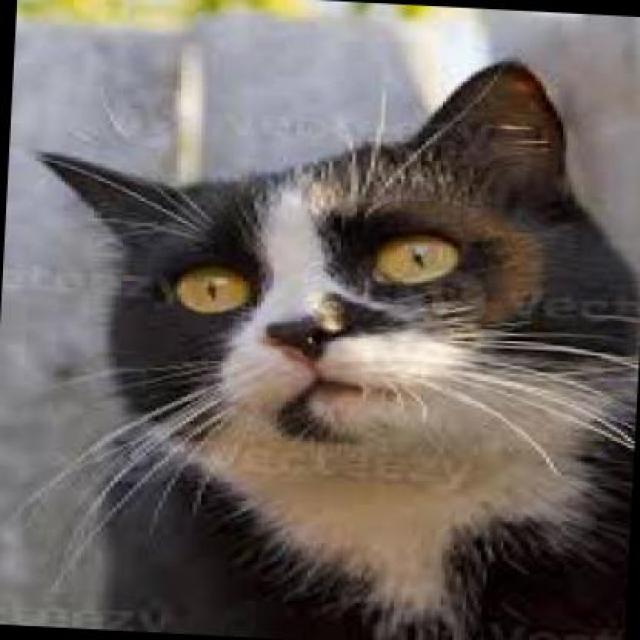animals: (14, 20, 638, 638)
